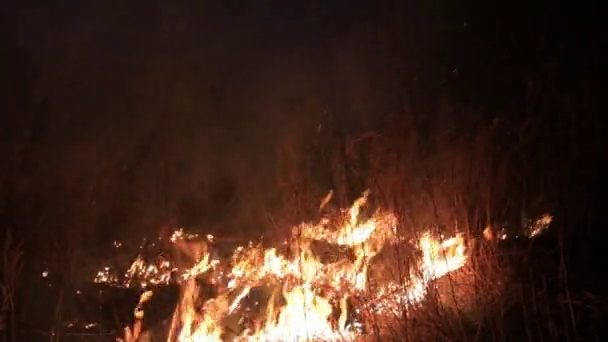fire: (171, 206, 381, 342), (412, 230, 465, 275), (127, 258, 168, 282)
